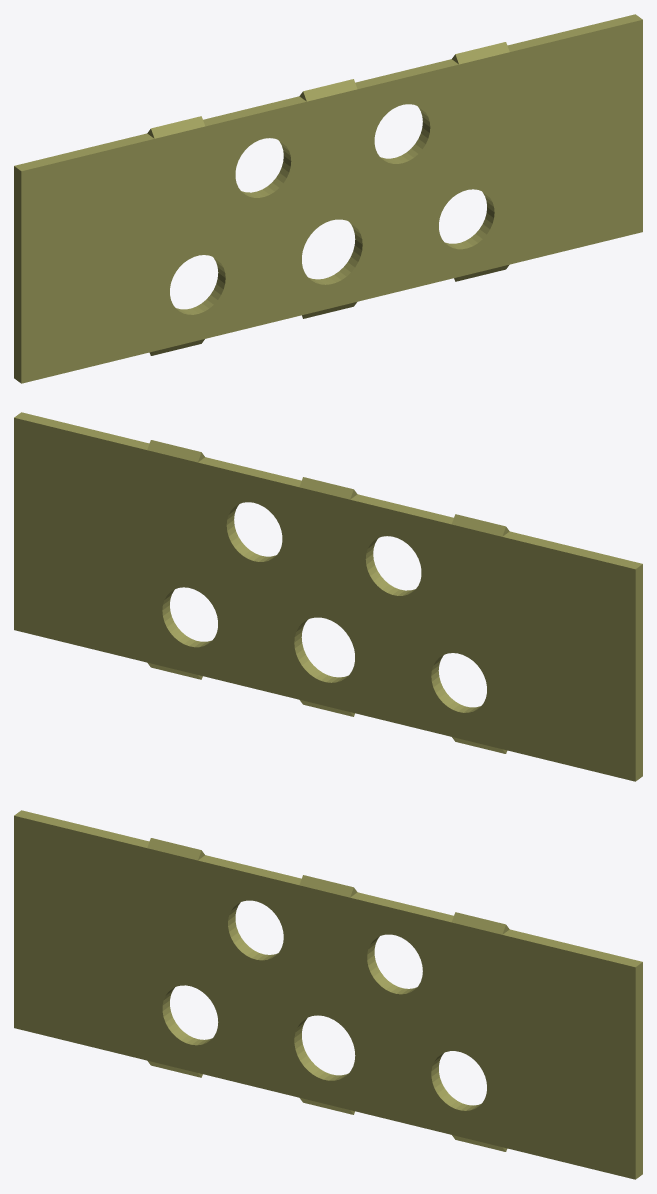
File: OBJ_CASE - BACK.obj
3 renders of one model, top to bottom at view 1: azimuth 30°, elevation 25°; view 2: azimuth 150°, elevation 25°; view 3: azimuth 330°, elevation 25°, orthographic.
Size of the model in its own units: 482 by 169 by 10.
